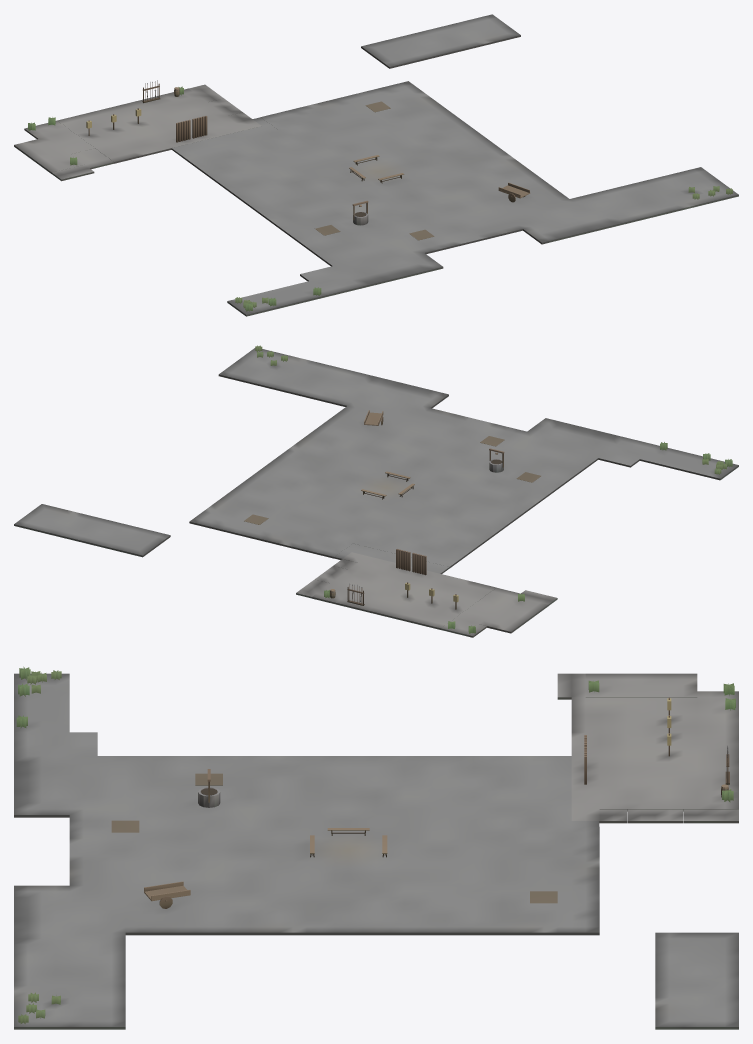
Rendered from courtyard.glb.
3 renders of one model, top to bottom at view 1: azimuth 30°, elevation 25°; view 2: azimuth 150°, elevation 25°; view 3: azimuth 270°, elevation 25°, orthographic. The views are drawn at different scales.
Visible parts, largest first — view 1: floor_cobble_4.070, floor_cobble_4.071, floor_cobble_4.073, floor_cobble_4.068, floor_cobble_4.069, floor_gravel_4.006, floor_cobble_4.067, floor_cobble_4.072, floor_gravel_4.009, floor_cobble_4.002, floor_cobble_4.074, floor_cobble_4.080 (+79 smaller); view 2: floor_cobble_4.080, floor_cobble_4.028, floor_cobble_4.077, floor_cobble_4.082, floor_cobble_4.083, floor_gravel_4.007, floor_cobble_4.076, floor_cobble_4.081, floor_gravel_4.004, floor_cobble_4.037, floor_cobble_4.079, floor_cobble_4.078 (+79 smaller); view 3: floor_cobble_4.079, floor_cobble_4.069, floor_cobble_4.083, floor_gravel_4.014, floor_cobble_4.013, floor_cobble_4.028, floor_cobble_4.035, floor_cobble_4.076, floor_cobble_4.014, floor_cobble_4.018, floor_gravel_4.006, floor_cobble_4.011 (+87 smaller).
Part boxes in pixels (x1,y1,x2,y2): floor_cobble_4.070: (523, 221, 574, 244); floor_cobble_4.071: (556, 213, 607, 236); floor_cobble_4.073: (622, 197, 673, 220); floor_cobble_4.068: (359, 261, 410, 284); floor_cobble_4.069: (392, 253, 443, 276); floor_gravel_4.006: (95, 140, 146, 163); floor_cobble_4.067: (326, 269, 377, 292); floor_cobble_4.072: (589, 205, 640, 228); floor_gravel_4.009: (128, 132, 179, 155); floor_cobble_4.002: (181, 147, 232, 170); floor_cobble_4.074: (655, 189, 705, 212); floor_cobble_4.080: (361, 38, 412, 61); floor_cobble_4.080: (110, 534, 161, 557); floor_cobble_4.028: (302, 535, 352, 558); floor_cobble_4.077: (283, 376, 333, 399); floor_cobble_4.082: (46, 518, 96, 541); floor_cobble_4.083: (14, 510, 64, 533); floor_gravel_4.007: (376, 599, 426, 621); floor_cobble_4.076: (315, 384, 365, 406); floor_cobble_4.081: (78, 526, 128, 549); floor_gravel_4.004: (408, 607, 458, 629); floor_cobble_4.037: (270, 527, 320, 550); floor_cobble_4.079: (218, 361, 268, 383); floor_cobble_4.078: (250, 369, 301, 391); floor_cobble_4.079: (69, 1003, 125, 1029); floor_cobble_4.069: (14, 791, 69, 817); floor_cobble_4.083: (683, 1003, 738, 1029); floor_gravel_4.014: (627, 785, 683, 811); floor_cobble_4.013: (376, 779, 432, 803); floor_cobble_4.028: (543, 826, 599, 850); floor_cobble_4.035: (153, 826, 209, 850); floor_cobble_4.076: (69, 932, 125, 956); floor_cobble_4.014: (320, 779, 376, 803); floor_cobble_4.018: (97, 779, 153, 803); floor_gravel_4.006: (571, 714, 627, 738); floor_cobble_4.011: (488, 779, 543, 803).
Size of the model in its own units: 60 by 2.54 by 52.
